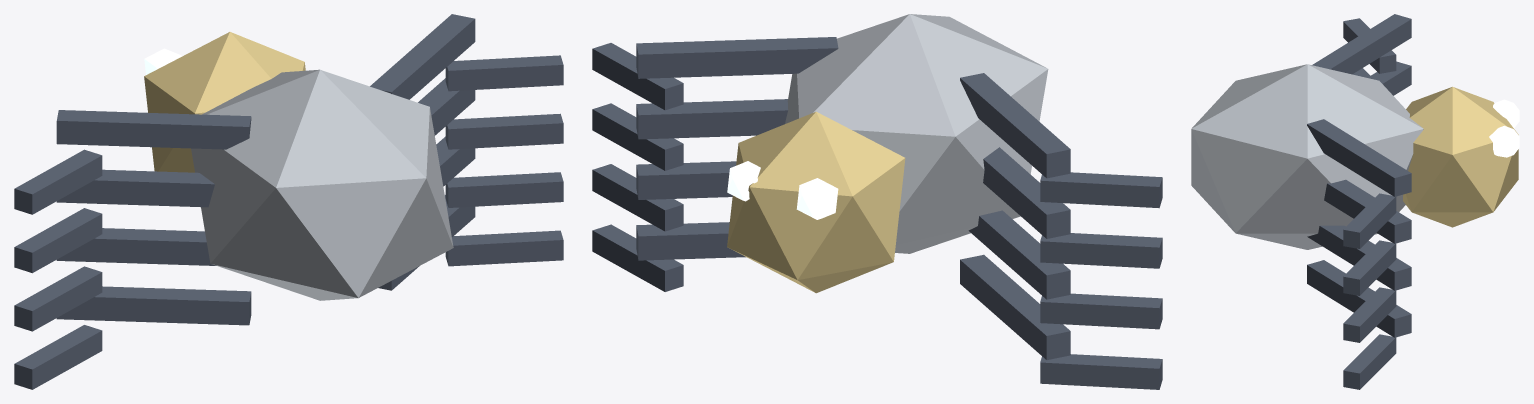
File: spider.glb
3 views of the same model, side by side, from view 1: azimuth 30°, elevation 25°; view 2: azimuth 150°, elevation 25°; view 3: azimuth 270°, elevation 25° (orthographic). The views are drawn at different scales.
Visible parts, largest first — view 1: spider; view 2: spider; view 3: spider.
Part boxes in pixels (x1,y1,x2,y2): spider: (14, 14, 563, 389); spider: (592, 14, 1162, 389); spider: (1191, 14, 1519, 389).
Bounding box in the file's own units: 0.9794 × 0.4655 × 0.6343.
